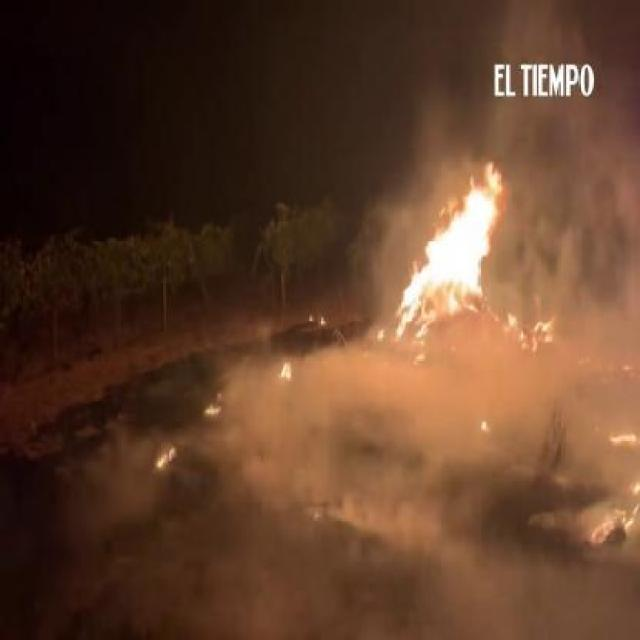Fire: (394, 163, 503, 345), (590, 482, 638, 542), (508, 306, 556, 351), (409, 328, 431, 364), (156, 446, 178, 468), (608, 427, 636, 444), (278, 358, 292, 382), (204, 404, 222, 418), (482, 416, 489, 436), (376, 328, 386, 340), (318, 310, 326, 324)
